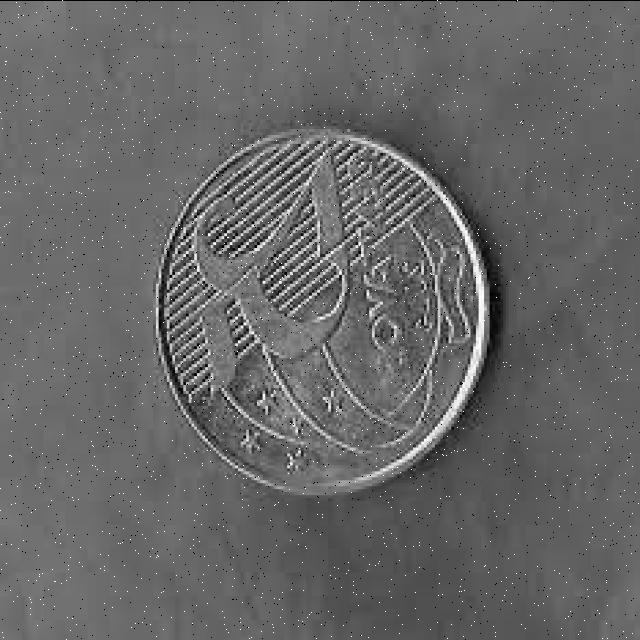25 cent: (157, 122, 497, 492)
